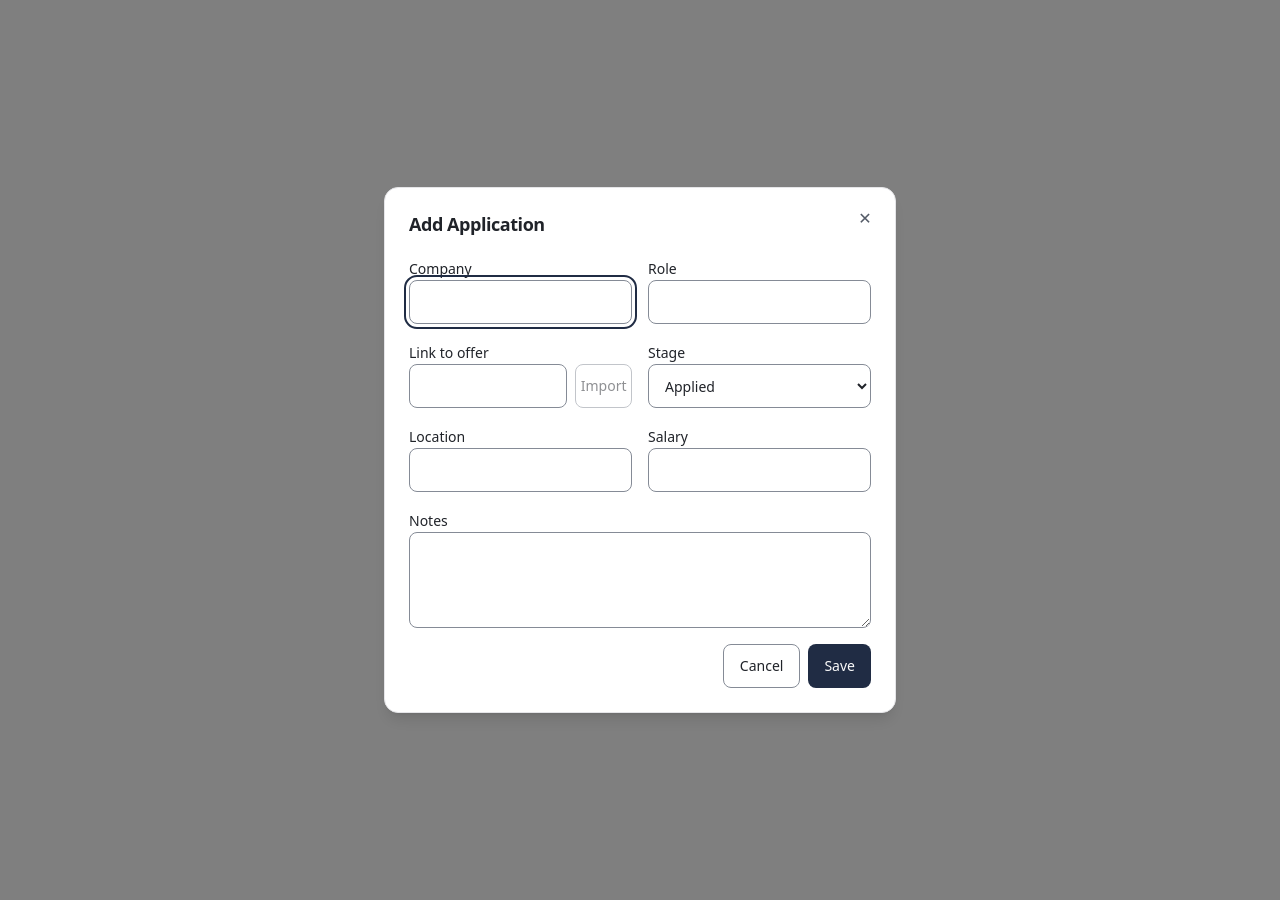
Scenario: ApplicationDialog › shows import error for failed URL import
In the field labelled "Link to offer": point(488, 386) [409,364,567,408], type "https://example.com/job"
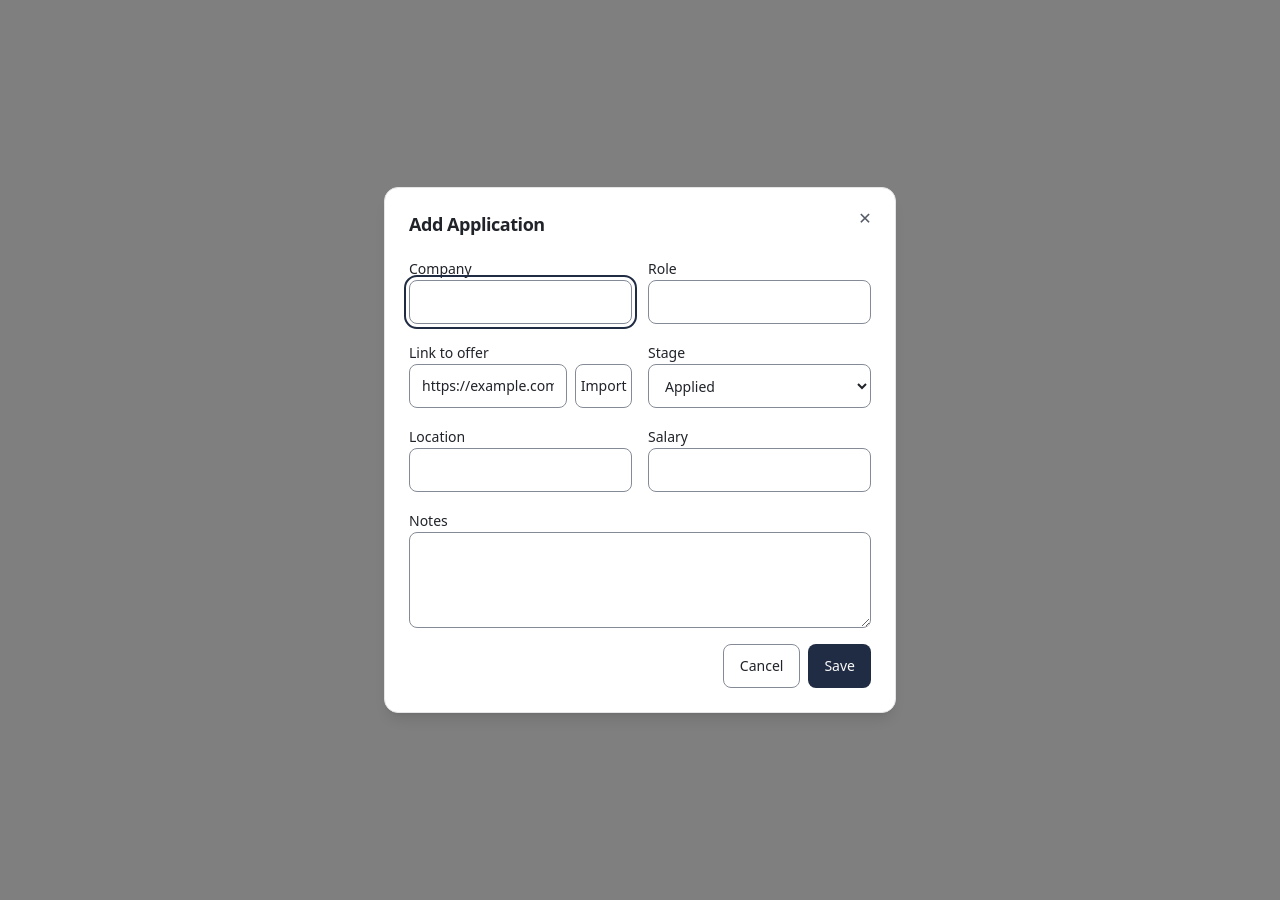
Click the button "Import": point(604, 386) [575,364,632,408]
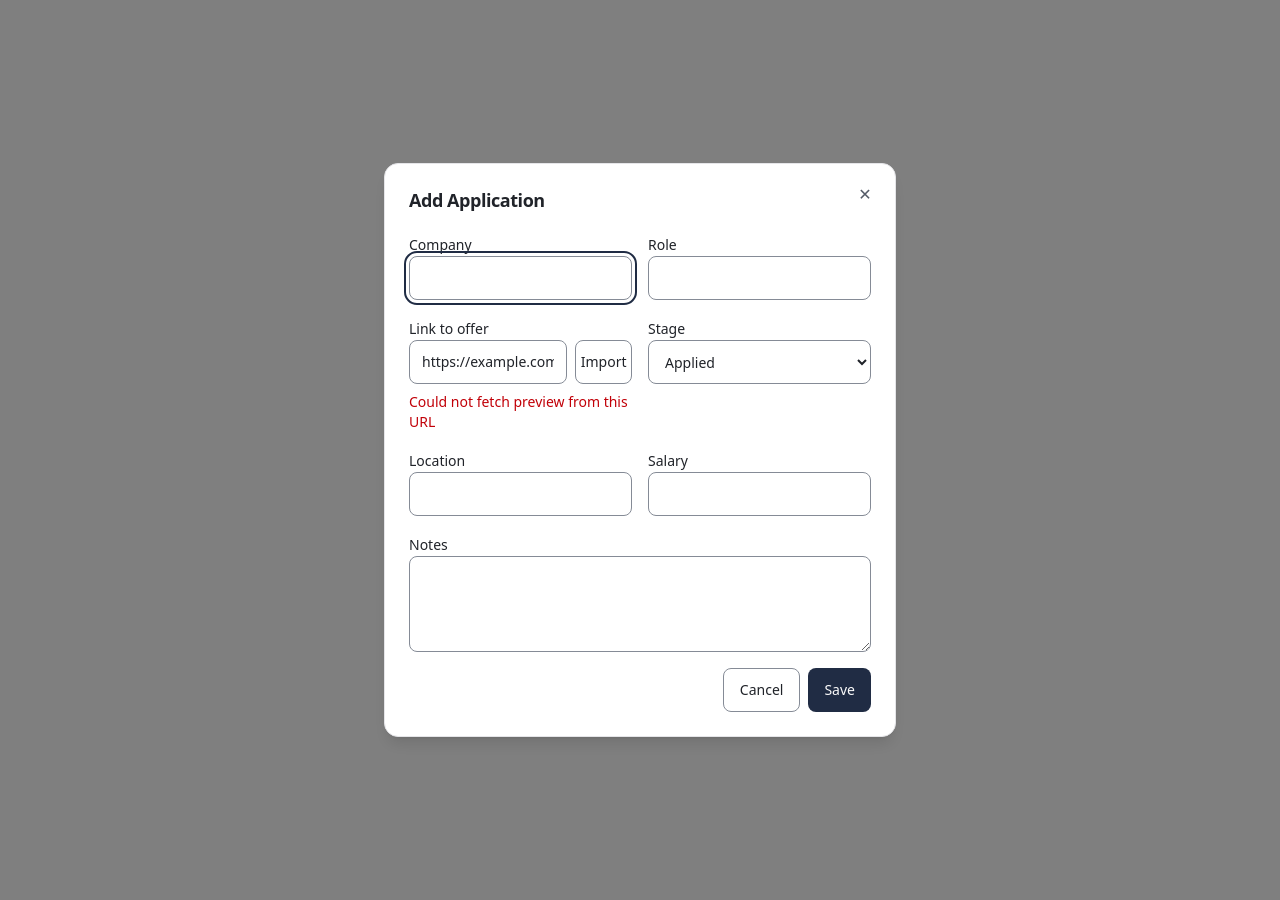
Now the text "Could not fetch preview from this URL" is shown, box [409,392,632,432]
